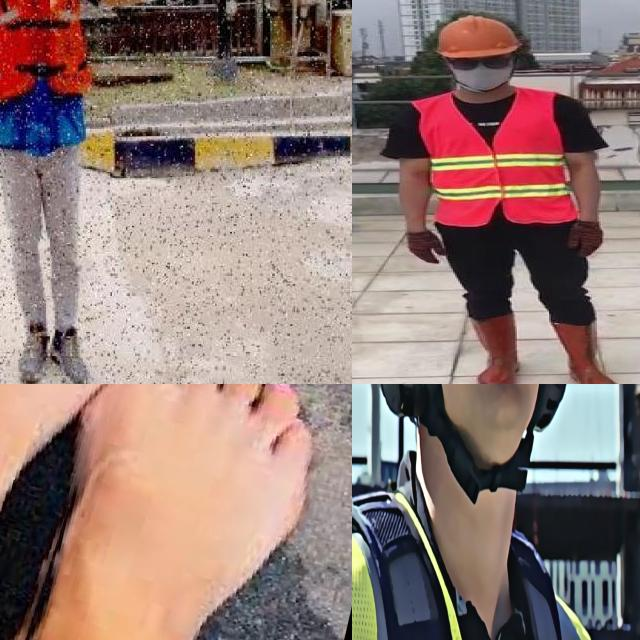Barefoots: (36, 384, 352, 640), (0, 384, 149, 640)
Ear-protection: (372, 384, 425, 424), (533, 384, 571, 433)
boots: (550, 322, 620, 384), (467, 307, 522, 384), (49, 324, 89, 384), (16, 318, 49, 384)
head_helmet: (435, 12, 527, 58)
person: (379, 10, 639, 384), (352, 384, 604, 640)
vest: (416, 91, 578, 225), (0, 0, 101, 155)
